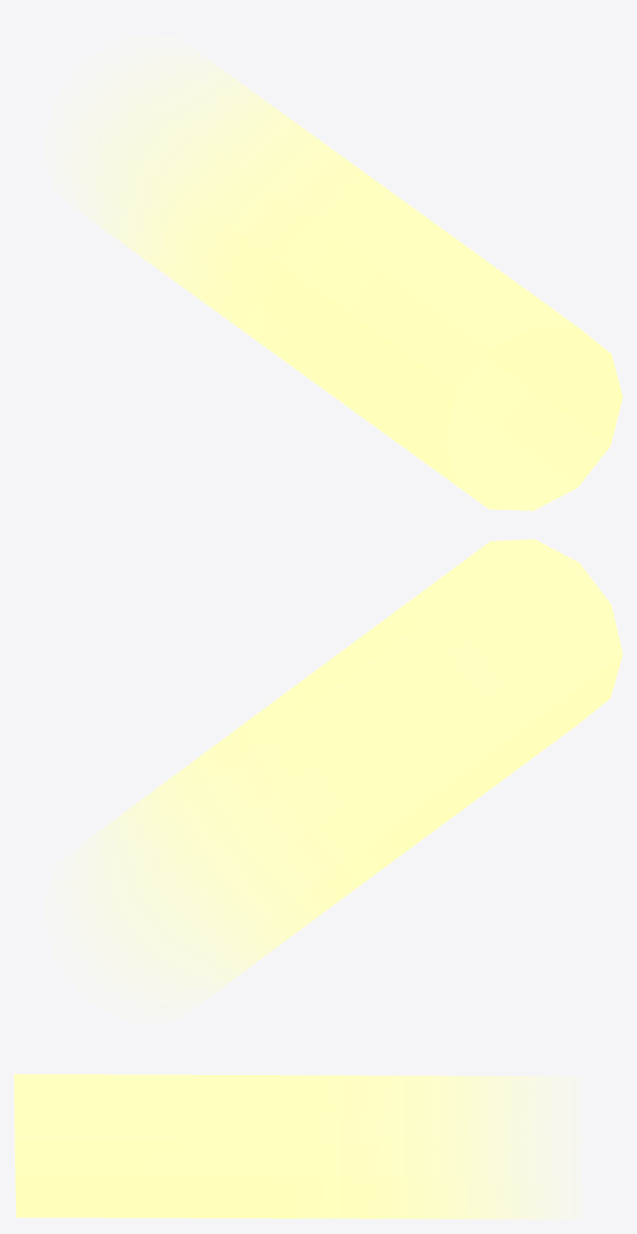
File: 119_exitpipe_002.gltf
3 renders of one model, top to bottom at view 1: azimuth 30°, elevation 25°; view 2: azimuth 150°, elevation 25°; view 3: azimuth 270°, elevation 25°, orthographic. The views are drawn at different scales.
Visible parts, largest first — view 1: exitpipe_002; view 2: exitpipe_002; view 3: exitpipe_002.
Part boxes in pixels (box(x1,y1,x2,y2)): exitpipe_002: box(69, 46, 622, 510); exitpipe_002: box(69, 539, 622, 1010); exitpipe_002: box(14, 1074, 571, 1219).
Size of the model in its own units: 7.7 by 7.84 by 32.59.
1 material, 1 textured.
